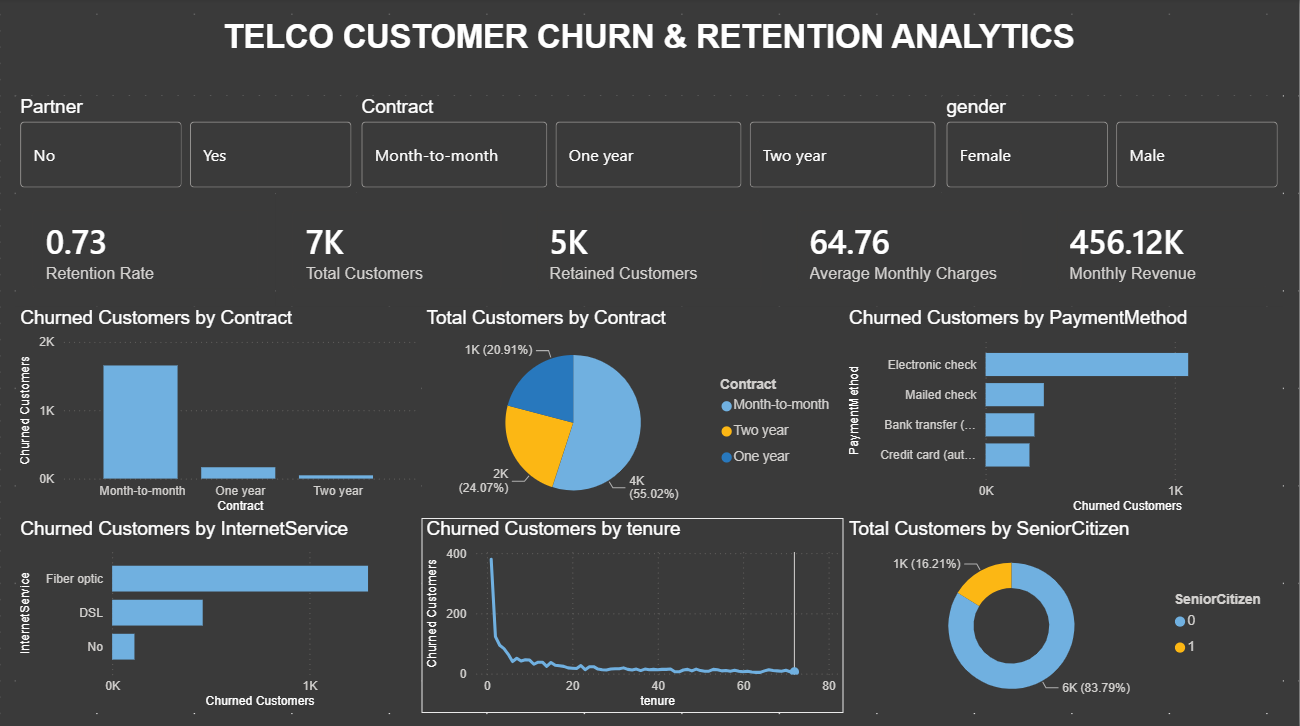

The dashboard page shown, as its layout file describes it:
{"tool":"powerbi","page":{"name":"Page 1","canvas":[1280,720],"ordinal":0},"visuals":[{"type":"cardVisual","fields":{"Data":["WA_Fn-UseC_-Telco-Customer-Churn.Total Customers"]},"box":[272,192,240,112],"z":0},{"type":"cardVisual","fields":{"Data":["WA_Fn-UseC_-Telco-Customer-Churn.Monthly Revenue"]},"box":[1024,192,240,112],"z":2},{"type":"cardVisual","fields":{"Data":["WA_Fn-UseC_-Telco-Customer-Churn.Retained Customers"]},"box":[512,192,256,112],"z":3},{"type":"cardVisual","fields":{"Data":["WA_Fn-UseC_-Telco-Customer-Churn.Retention Rate"]},"box":[16,192,256,112],"z":4},{"type":"cardVisual","fields":{"Data":["WA_Fn-UseC_-Telco-Customer-Churn.Average Monthly Charges"]},"box":[768,192,256,112],"z":5},{"type":"clusteredColumnChart","fields":{"Y":["WA_Fn-UseC_-Telco-Customer-Churn.Churned Customers"],"Category":["WA_Fn-UseC_-Telco-Customer-Churn.Contract"]},"box":[16,304,400,208],"z":6},{"type":"barChart","fields":{"Y":["WA_Fn-UseC_-Telco-Customer-Churn.Churned Customers"],"Category":["WA_Fn-UseC_-Telco-Customer-Churn.InternetService"]},"box":[16,512,400,192],"z":7},{"type":"barChart","fields":{"Category":["WA_Fn-UseC_-Telco-Customer-Churn.PaymentMethod"],"Y":["WA_Fn-UseC_-Telco-Customer-Churn.Churned Customers"]},"box":[832,304,432,208],"z":8},{"type":"lineChart","fields":{"Category":["WA_Fn-UseC_-Telco-Customer-Churn.tenure"],"Y":["WA_Fn-UseC_-Telco-Customer-Churn.Churned Customers"]},"box":[416,512,416,192],"z":9},{"type":"donutChart","fields":{"Category":["WA_Fn-UseC_-Telco-Customer-Churn.SeniorCitizen"],"Y":["WA_Fn-UseC_-Telco-Customer-Churn.Total Customers"]},"box":[832,512,432,192],"z":10},{"type":"pieChart","fields":{"Y":["WA_Fn-UseC_-Telco-Customer-Churn.Total Customers"],"Category":["WA_Fn-UseC_-Telco-Customer-Churn.Contract"]},"box":[416,304,416,208],"z":11},{"type":"advancedSlicerVisual","fields":{"Values":["WA_Fn-UseC_-Telco-Customer-Churn.gender"]},"box":[928,96,336,96],"z":12},{"type":"advancedSlicerVisual","fields":{"Values":["WA_Fn-UseC_-Telco-Customer-Churn.Contract"]},"box":[352,96,576,96],"z":13},{"type":"advancedSlicerVisual","fields":{"Values":["WA_Fn-UseC_-Telco-Customer-Churn.Partner"]},"box":[16,96,336,96],"z":14},{"type":"textbox","box":[16,16,1248,80],"z":15}]}

Visuals, with their boxes in screenshot pixels (x1, y1, x2, y2), scaled from the page's 1280x720 canvas onto the 1300x726 screenshot:
cardVisual - WA_Fn-UseC_-Telco-Customer-Churn.Total Customers: 276/194/520/307
cardVisual - WA_Fn-UseC_-Telco-Customer-Churn.Monthly Revenue: 1040/194/1284/307
cardVisual - WA_Fn-UseC_-Telco-Customer-Churn.Retained Customers: 520/194/780/307
cardVisual - WA_Fn-UseC_-Telco-Customer-Churn.Retention Rate: 16/194/276/307
cardVisual - WA_Fn-UseC_-Telco-Customer-Churn.Average Monthly Charges: 780/194/1040/307
clusteredColumnChart - WA_Fn-UseC_-Telco-Customer-Churn.Churned Customers x WA_Fn-UseC_-Telco-Customer-Churn.Contract: 16/307/422/516
barChart - WA_Fn-UseC_-Telco-Customer-Churn.Churned Customers x WA_Fn-UseC_-Telco-Customer-Churn.InternetService: 16/516/422/710
barChart - WA_Fn-UseC_-Telco-Customer-Churn.PaymentMethod x WA_Fn-UseC_-Telco-Customer-Churn.Churned Customers: 845/307/1284/516
lineChart - WA_Fn-UseC_-Telco-Customer-Churn.tenure x WA_Fn-UseC_-Telco-Customer-Churn.Churned Customers: 422/516/845/710
donutChart - WA_Fn-UseC_-Telco-Customer-Churn.SeniorCitizen x WA_Fn-UseC_-Telco-Customer-Churn.Total Customers: 845/516/1284/710
pieChart - WA_Fn-UseC_-Telco-Customer-Churn.Total Customers x WA_Fn-UseC_-Telco-Customer-Churn.Contract: 422/307/845/516
advancedSlicerVisual - WA_Fn-UseC_-Telco-Customer-Churn.gender: 942/97/1284/194
advancedSlicerVisual - WA_Fn-UseC_-Telco-Customer-Churn.Contract: 358/97/942/194
advancedSlicerVisual - WA_Fn-UseC_-Telco-Customer-Churn.Partner: 16/97/358/194
textbox: 16/16/1284/97
